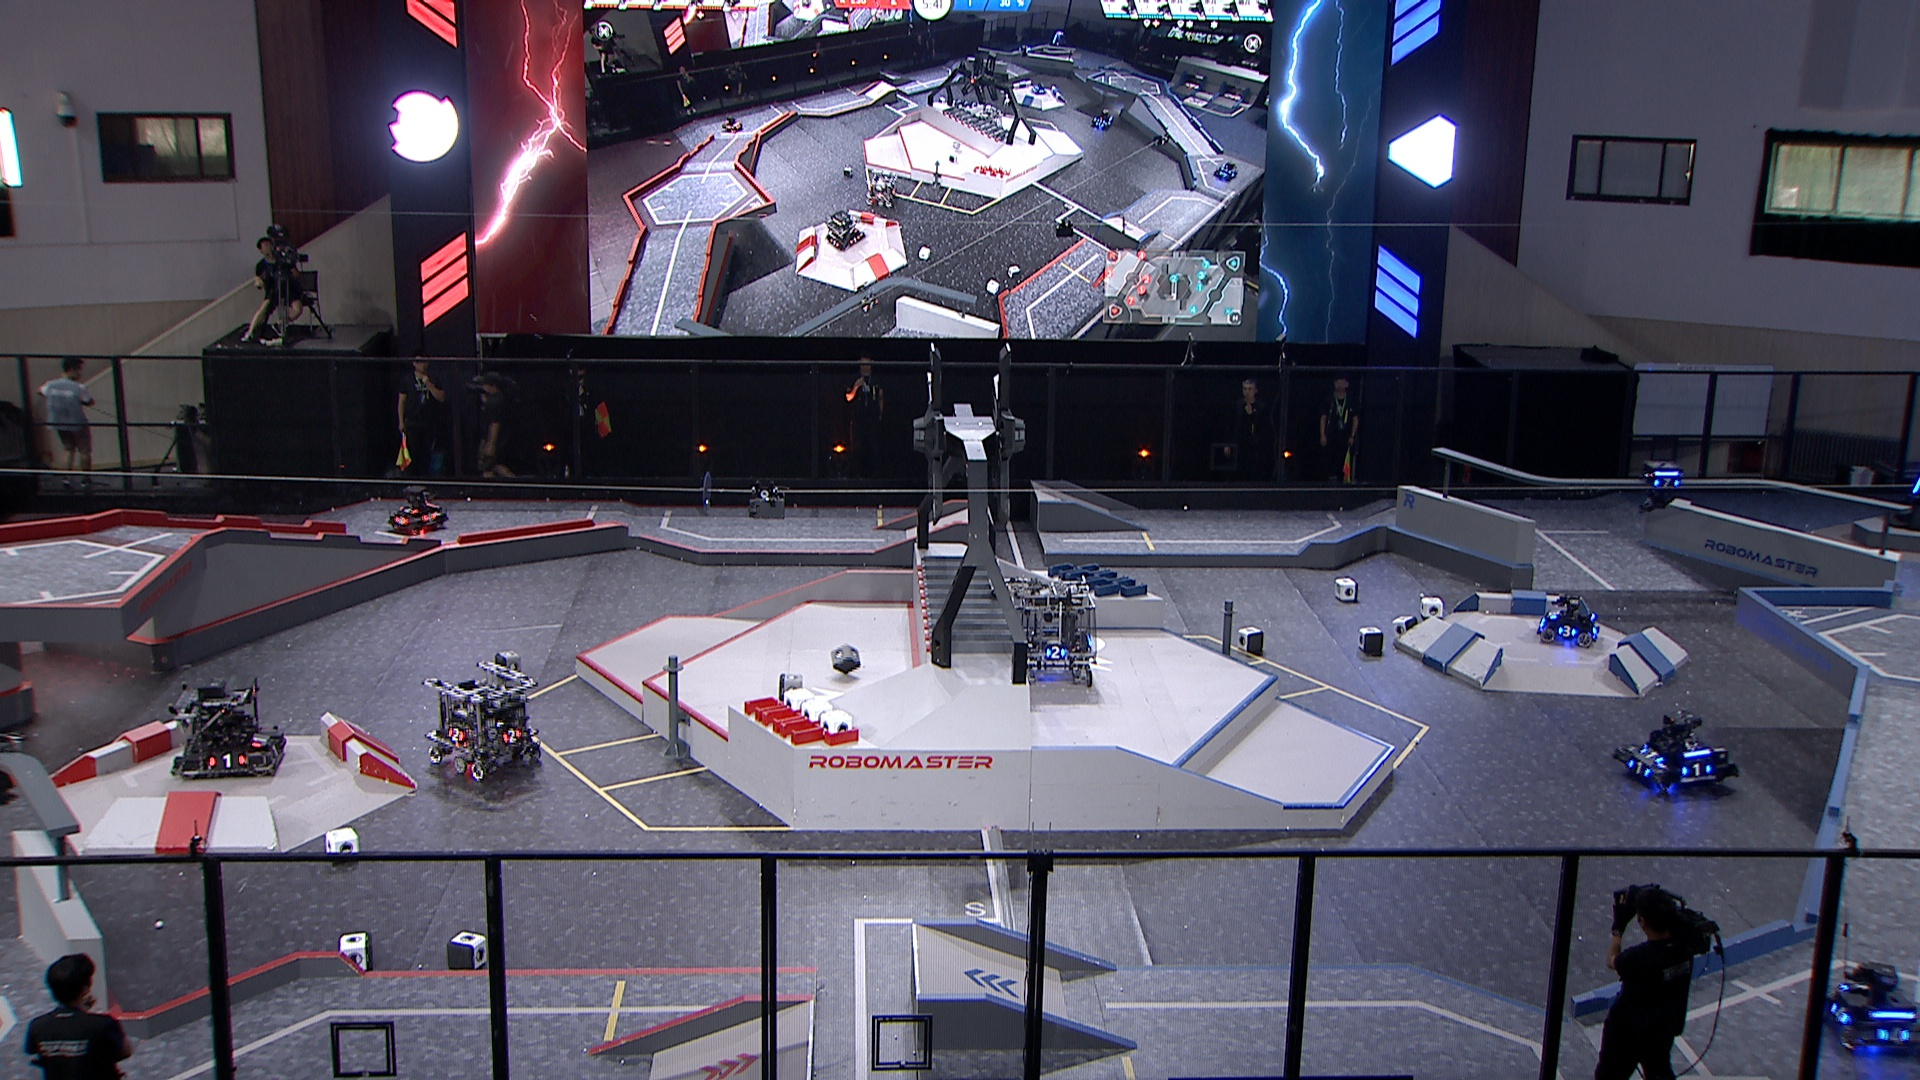armor: (1878, 1025, 1911, 1048), (208, 752, 247, 771), (1681, 760, 1713, 778), (1638, 745, 1665, 764), (1629, 760, 1652, 779), (1651, 476, 1683, 491), (1832, 1004, 1851, 1026), (502, 727, 524, 746), (447, 727, 467, 745), (248, 733, 268, 749), (419, 510, 439, 526), (1557, 624, 1577, 640), (1046, 645, 1067, 659), (266, 742, 284, 760), (392, 514, 409, 527), (398, 504, 419, 514), (1547, 609, 1563, 622), (1911, 479, 1920, 495)
base: (1887, 447, 1920, 534)
car: (422, 659, 542, 785), (167, 676, 286, 778), (1007, 575, 1101, 687), (1618, 711, 1741, 794), (1821, 960, 1920, 1054), (1536, 595, 1600, 647), (390, 487, 448, 535)
ignore: (825, 208, 865, 251), (866, 169, 899, 208), (852, 284, 878, 314), (1092, 109, 1116, 133), (1215, 164, 1240, 183), (717, 119, 745, 133), (1051, 29, 1069, 47), (1030, 82, 1048, 98), (1015, 44, 1034, 59)
watcher: (1640, 460, 1684, 514)
